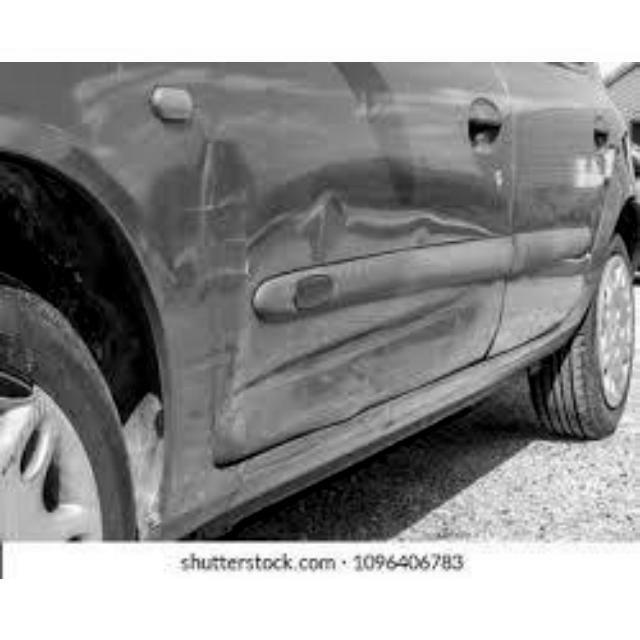doorouter-dent: (192, 62, 512, 379)
